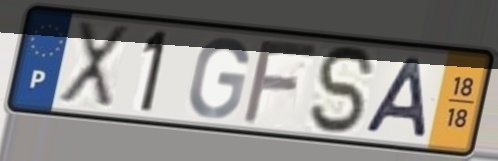1: (137, 28, 170, 115)
A: (361, 53, 431, 141)
F: (238, 39, 323, 127)
G: (185, 35, 252, 122)
S: (308, 42, 381, 138)
X: (54, 18, 132, 114)
